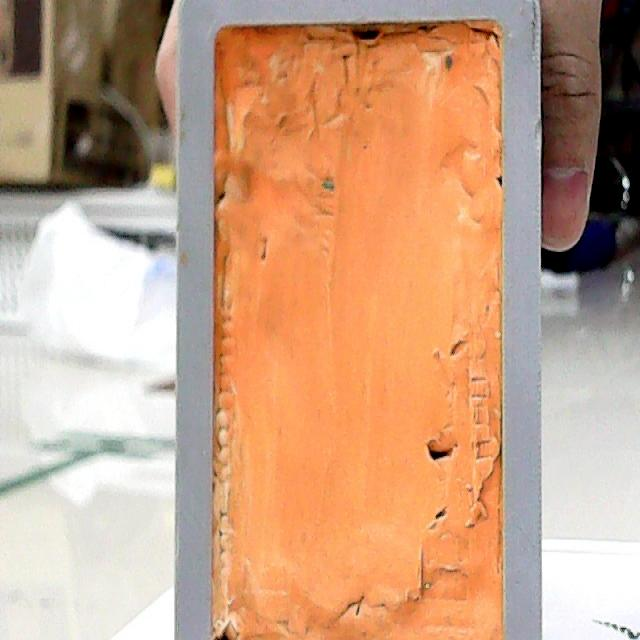block: (169, 0, 538, 639)
